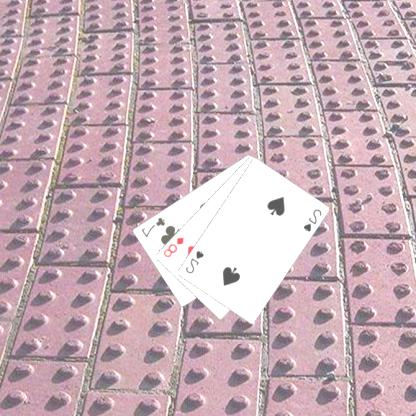2S: (184, 248, 207, 275), (302, 206, 324, 234)
7C: (140, 214, 168, 239)
8D: (162, 234, 187, 259)
